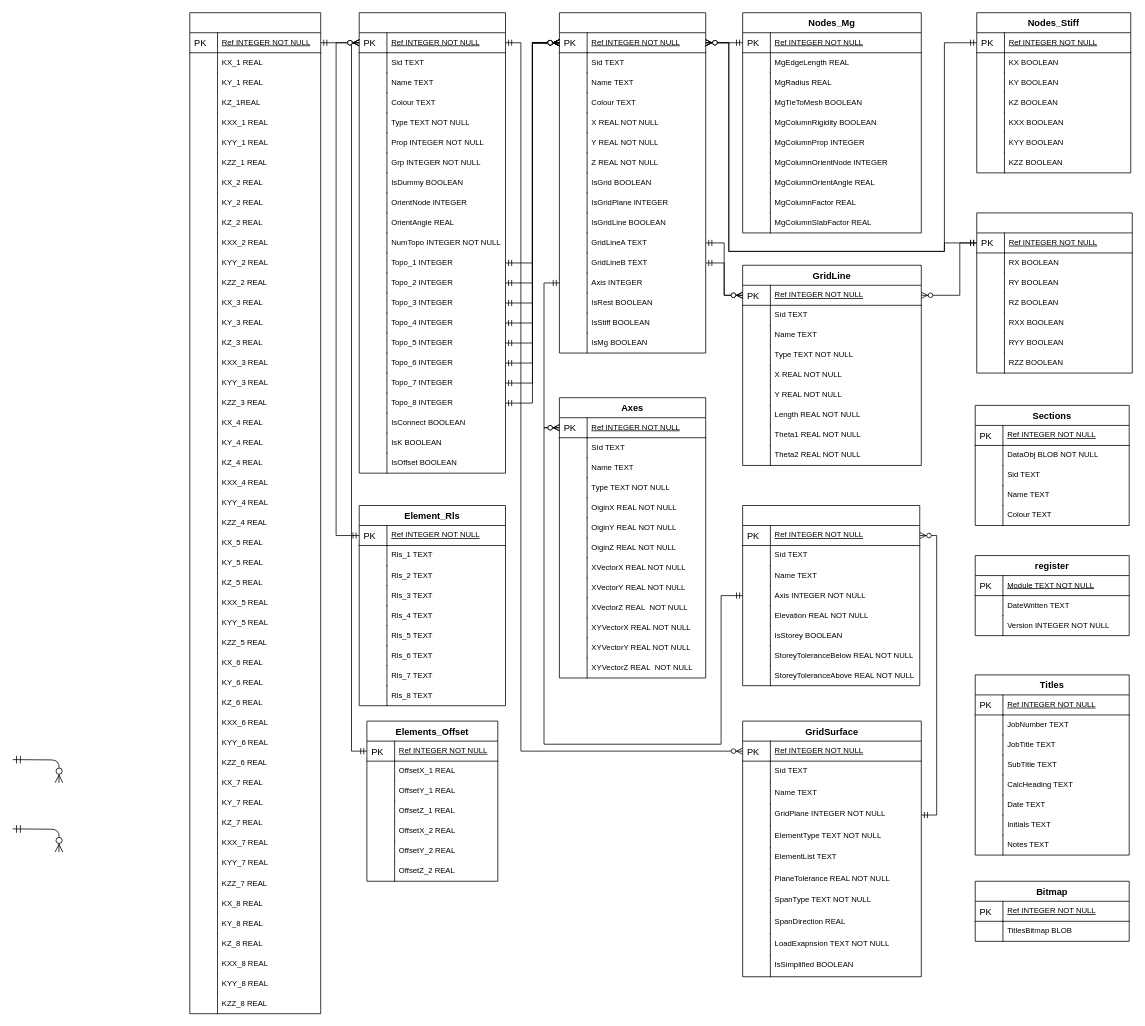
This 1145x1026 diagram has some shape labels left out. The box of each missing label's shape, as (x1, y1, x2, y2) in pixels:
Elements_: (358, 12, 506, 473)
Elements_K: (189, 12, 321, 1014)
GridPlane: (742, 505, 920, 686)
Nodes_: (559, 12, 706, 353)
Nodes_Rest: (976, 212, 1132, 373)
